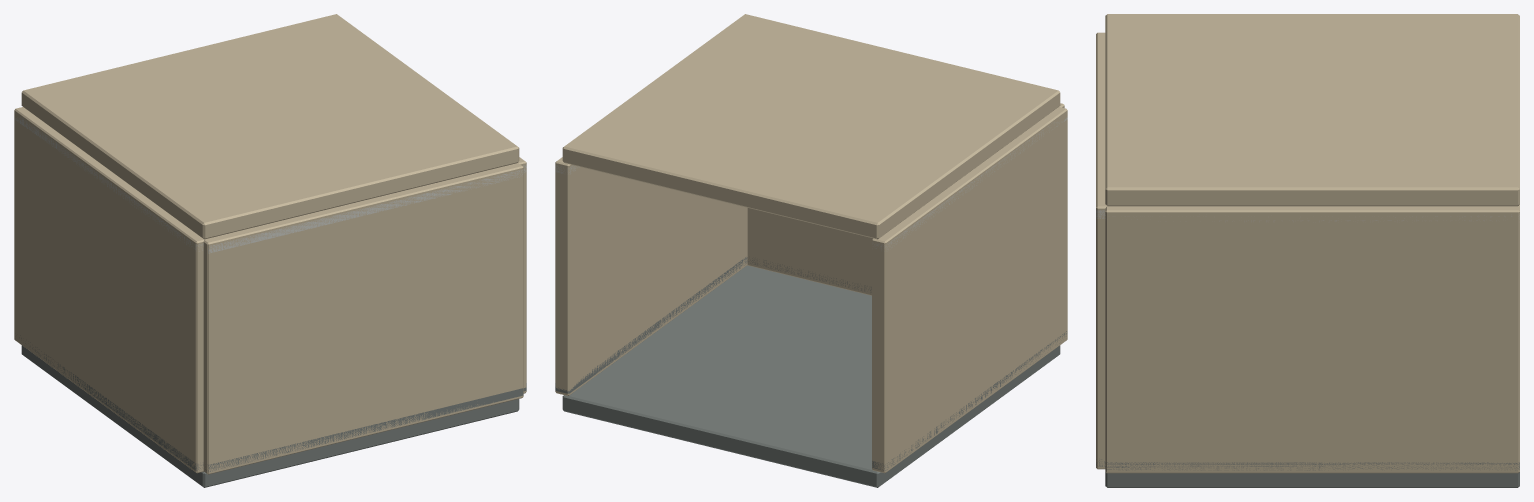
Rendered from architecture-room.lod0.glb.
3 views of the same model, side by side, from view 1: azimuth 30°, elevation 25°; view 2: azimuth 150°, elevation 25°; view 3: azimuth 270°, elevation 25° (orthographic). The views are drawn at different scales.
Parts seen in each view (by area): view 1: architecture-room__body; view 2: architecture-room__body; view 3: architecture-room__body.
Part boxes in pixels (x1,y1,x2,y2): architecture-room__body: (14, 14, 526, 487); architecture-room__body: (555, 14, 1067, 487); architecture-room__body: (1096, 14, 1519, 487).
Bounding box in the file's own units: 4.18 × 3.2 × 4.09.
